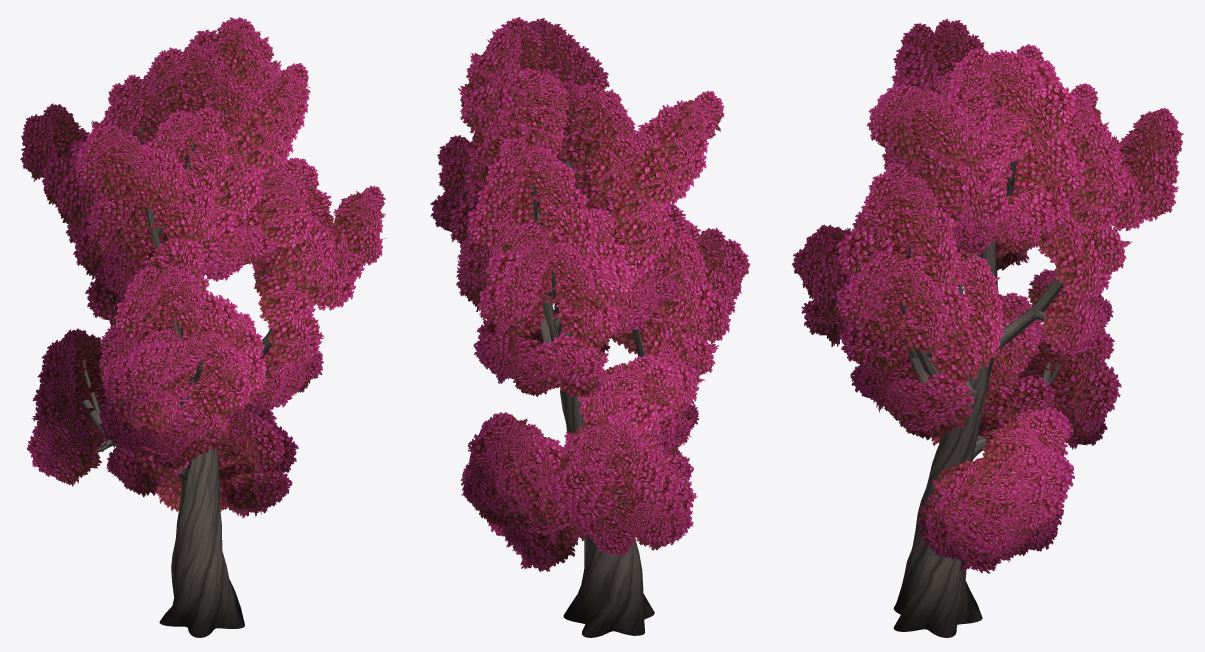
File: TwistedTree_4.gltf
3 views of the same model, side by side, from view 1: azimuth 30°, elevation 25°; view 2: azimuth 150°, elevation 25°; view 3: azimuth 270°, elevation 25° (orthographic). The views are drawn at different scales.
Parts seen in each view (by area): view 1: TwistedTree_4; view 2: TwistedTree_4; view 3: TwistedTree_4.
Boxes of the visible parts, x1,y1,x2,y2 form: TwistedTree_4: (20,17,386,637); TwistedTree_4: (430,17,750,637); TwistedTree_4: (792,19,1183,637).
Size of the model in its own units: 10.38 by 18.74 by 11.29.
2 materials, 2 textured.
